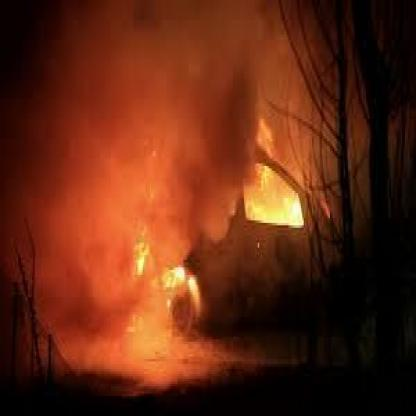fire: (133, 118, 306, 351)
